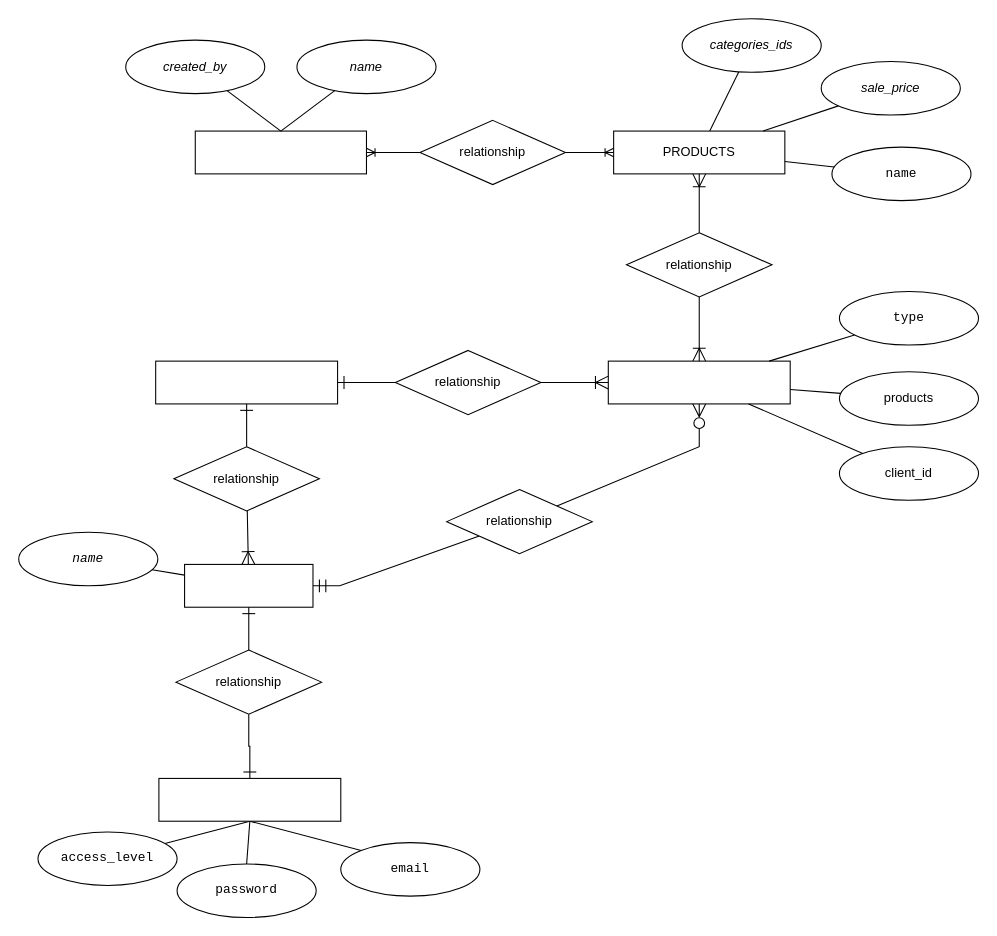
The diagram is 997 pixels wide and 936 high, and some of its shapes have lost their labels. Each missing label, with the box of its shape:
AUTHENTICATE: (158, 777, 341, 821)
CATEGORIAS: (194, 130, 366, 174)
COMPANY: (155, 360, 338, 404)
TRANSACTION: (607, 360, 790, 404)
USERS: (184, 563, 313, 607)
